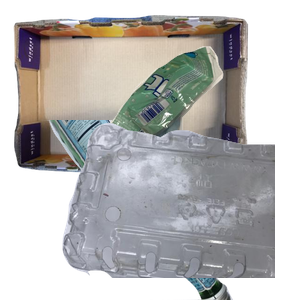cardboard: (11, 13, 251, 182)
glass: (37, 120, 262, 300)
plastic: (60, 120, 300, 300)
trash: (92, 44, 300, 211)
